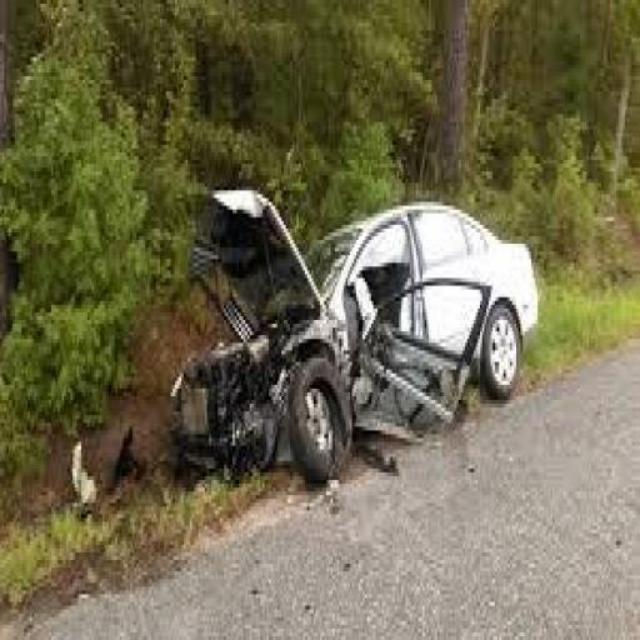crash: (179, 190, 463, 448)
